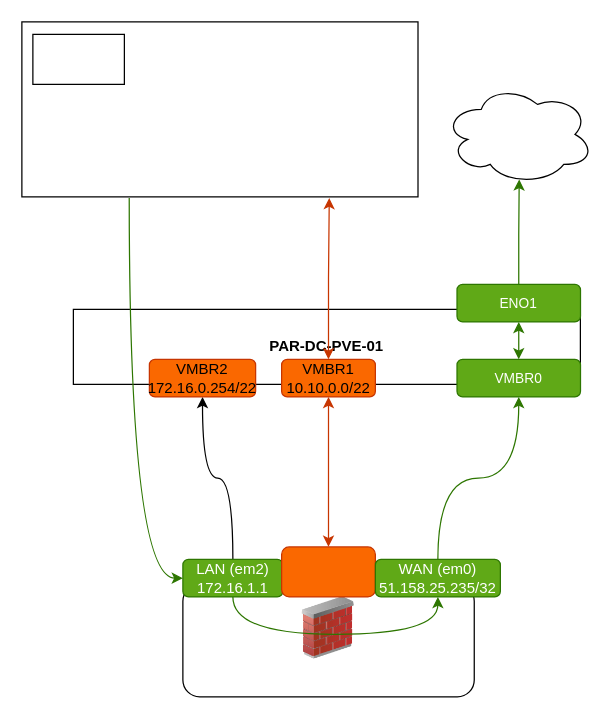
The diagram is 616 pixels wide and 719 high, and some of its shapes have lost their labels. The centre of each missing label's shape, as x and y in pixels:
INTERCO (em1) 10.10.1.1: the point at 327,571
LXC: the point at 78,58
PAR-DC-PFSENSE-01: the point at 327,627
